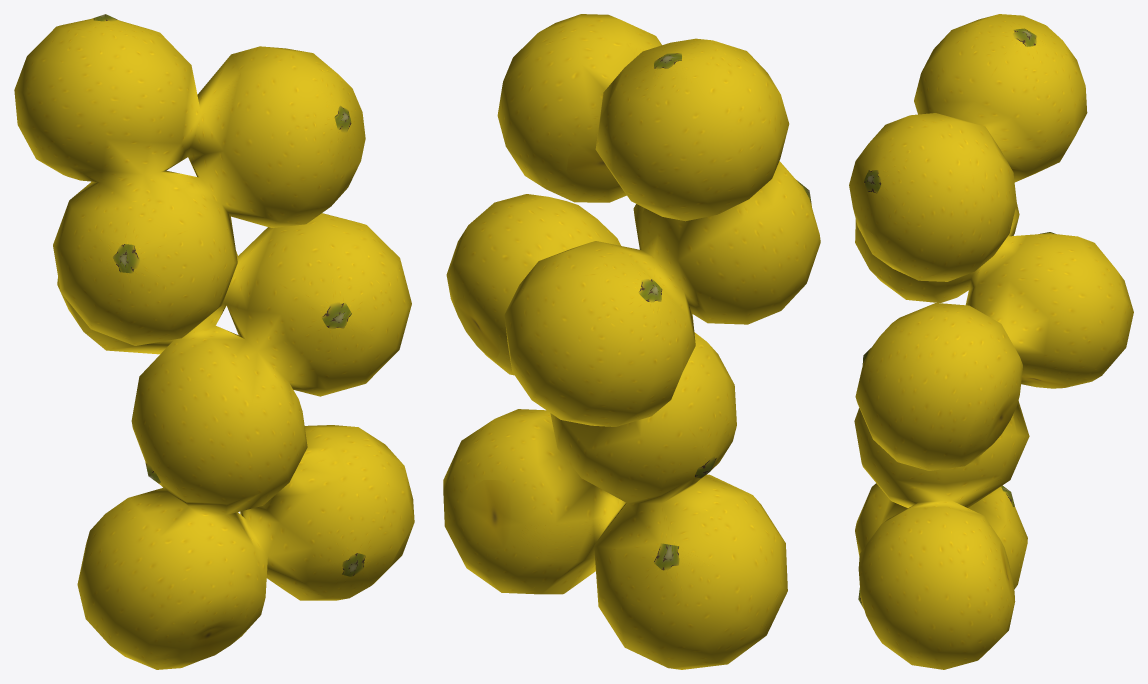
The model's file is orangesInBox.fbx.
3 renders of one model, left to right at view 1: azimuth 30°, elevation 25°; view 2: azimuth 150°, elevation 25°; view 3: azimuth 270°, elevation 25°, orthographic. The views are drawn at different scales.
Parts seen in each view (by area): view 1: orangesInBox; view 2: orangesInBox; view 3: orangesInBox.
Part boxes in pixels (<box>): orangesInBox: <box>14,14,414,669</box>; orangesInBox: <box>443,14,820,669</box>; orangesInBox: <box>849,14,1133,669</box>.
Bounding box in the file's own units: 52.6 × 91.16 × 40.46.
